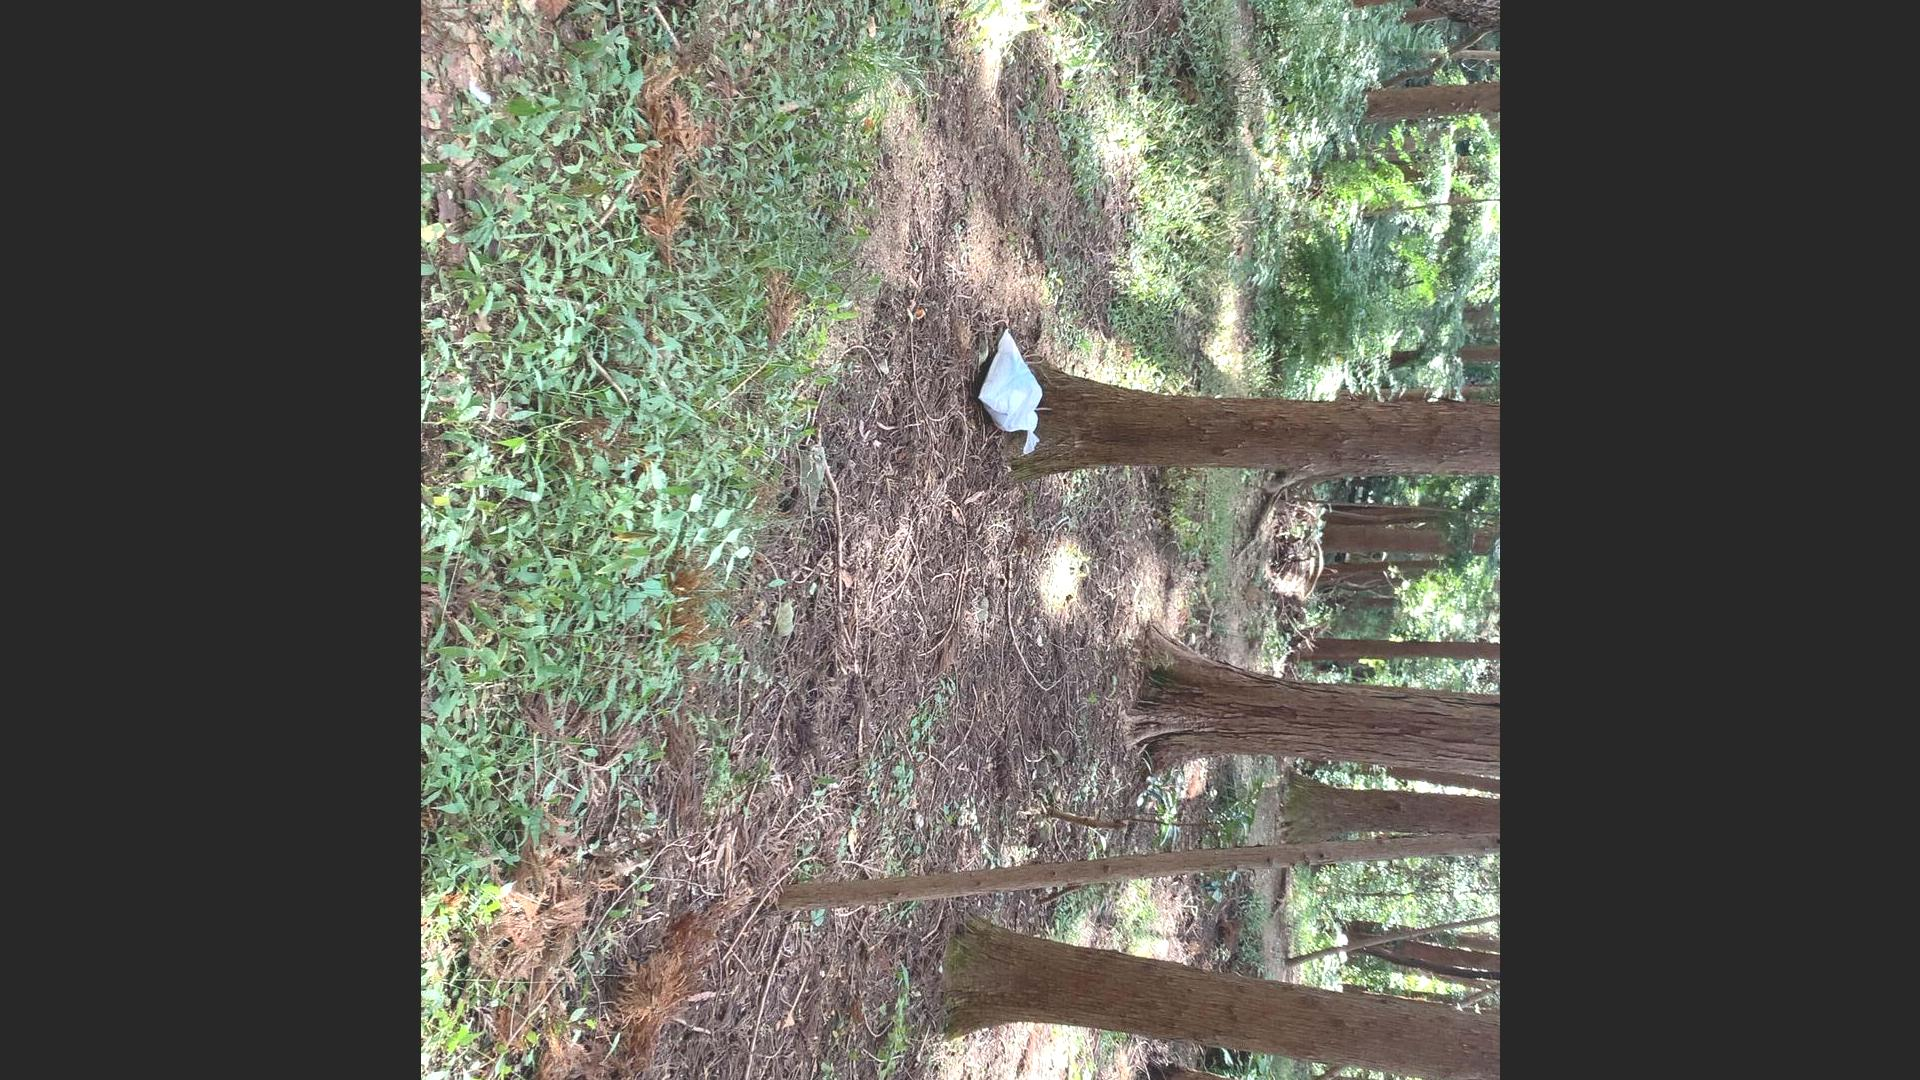white_bag: (972, 320, 1044, 460)
